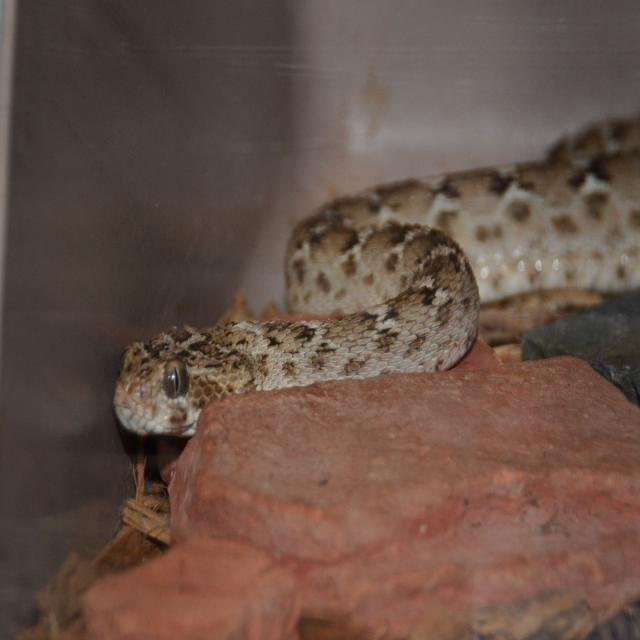Snake: (111, 113, 638, 441)
